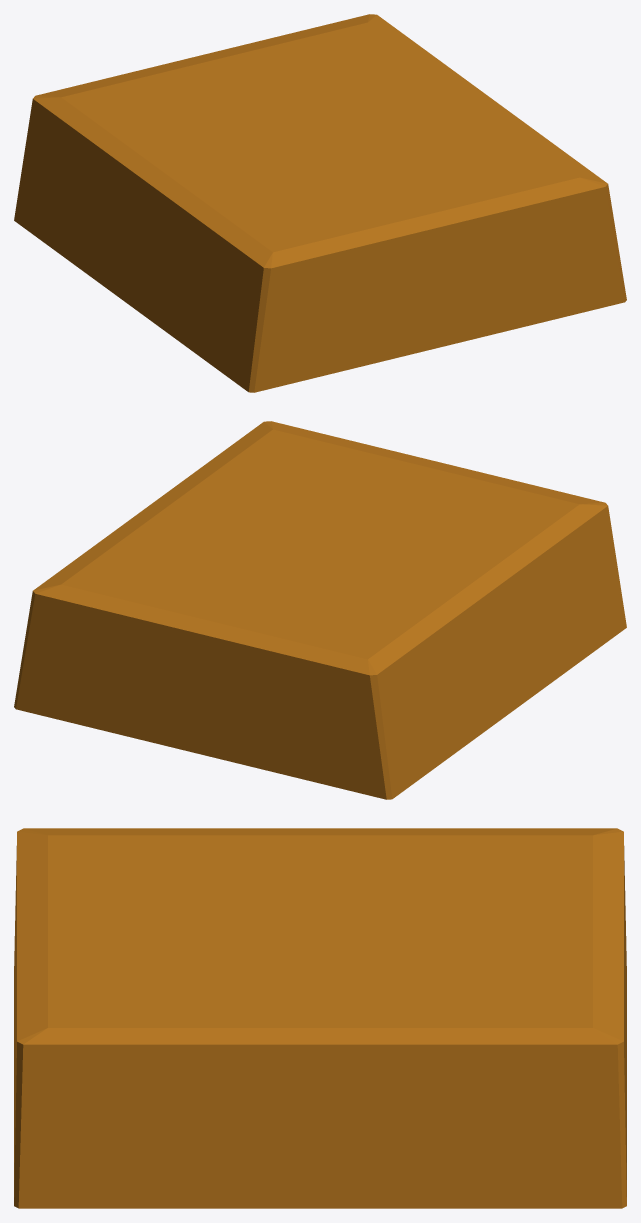
Rendered from stack-copper-plate.glb.
3 views of the same model, one above another, from view 1: azimuth 30°, elevation 25°; view 2: azimuth 150°, elevation 25°; view 3: azimuth 270°, elevation 25° (orthographic). The views are drawn at different scales.
Parts seen in each view (by area): view 1: Cube.014; view 2: Cube.014; view 3: Cube.014.
Part boxes in pixels (bbox=[...]): Cube.014: bbox=[14, 14, 626, 392]; Cube.014: bbox=[14, 421, 626, 799]; Cube.014: bbox=[14, 828, 626, 1208].
Bounding box in the file's own units: 2.2 × 0.6833 × 2.4.
